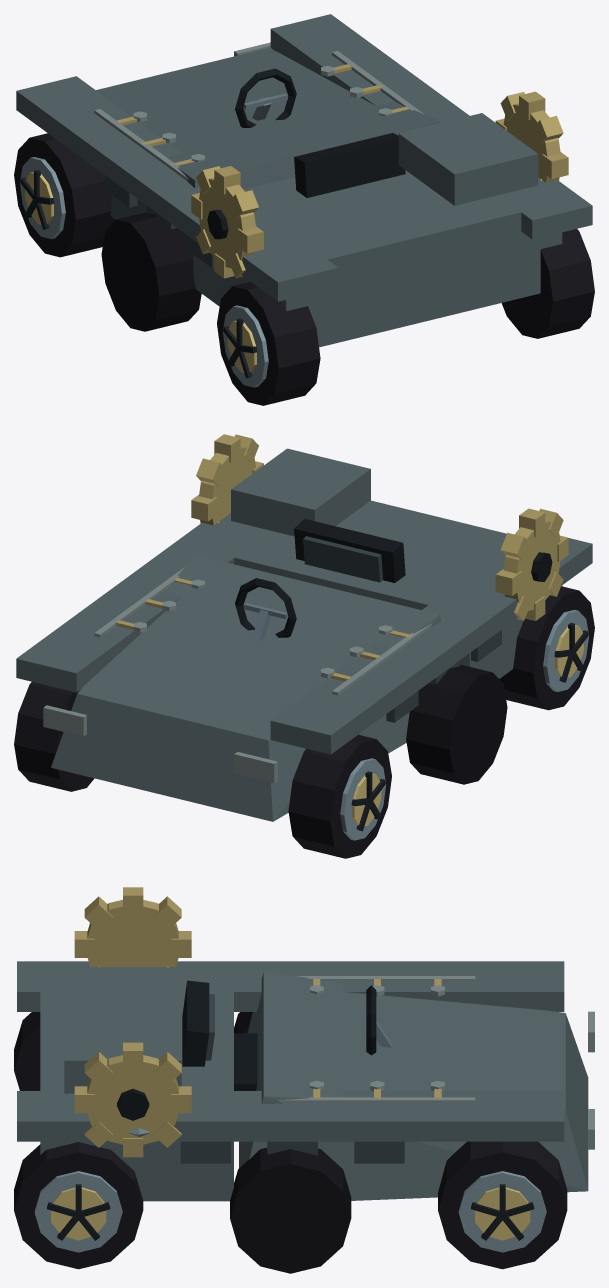
Rendered from kart.glb.
The picture shows the model from 3 angles, top to bottom: view 1: azimuth 30°, elevation 25°; view 2: azimuth 150°, elevation 25°; view 3: azimuth 270°, elevation 25°; orthographic projection. The views are drawn at different scales.
Visible parts, largest first — view 1: identity-apc-apc-armored-hull, wheel-rear-left, identity-apc-motif-gears, wheel-front-left, identity-apc-driver-cockpit, wheel-rear-right, identity-apc-motif-circuit; view 2: identity-apc-apc-armored-hull, wheel-front-left, identity-apc-motif-gears, wheel-rear-left, identity-apc-driver-cockpit, wheel-front-right, identity-apc-motif-circuit; view 3: identity-apc-apc-armored-hull, identity-apc-motif-gears, wheel-front-right, wheel-rear-right, identity-apc-driver-cockpit, identity-apc-motif-circuit, wheel-rear-left.
Part boxes in pixels (x1,y1,x2,y2): identity-apc-apc-armored-hull: [16, 14, 592, 347]; wheel-rear-left: [217, 281, 320, 405]; identity-apc-motif-gears: [191, 91, 568, 278]; wheel-front-left: [14, 133, 114, 257]; identity-apc-driver-cockpit: [235, 68, 405, 197]; wheel-rear-right: [501, 229, 594, 338]; identity-apc-motif-circuit: [94, 51, 424, 180]; identity-apc-apc-armored-hull: [16, 448, 592, 821]; wheel-front-left: [288, 734, 391, 858]; identity-apc-motif-gears: [191, 434, 568, 620]; wheel-rear-left: [499, 586, 594, 710]; identity-apc-driver-cockpit: [235, 519, 405, 641]; wheel-front-right: [14, 682, 94, 791]; identity-apc-motif-circuit: [94, 567, 432, 695]; identity-apc-apc-armored-hull: [17, 961, 594, 1273]; identity-apc-motif-gears: [74, 887, 191, 1157]; wheel-front-right: [438, 1141, 567, 1269]; wheel-rear-right: [14, 1142, 143, 1269]; identity-apc-driver-cockpit: [182, 980, 391, 1090]; identity-apc-motif-circuit: [278, 976, 475, 1103]; wheel-rear-left: [14, 1012, 40, 1090].
Size of the model in its own units: 2.08 by 1.2 by 2.88.
